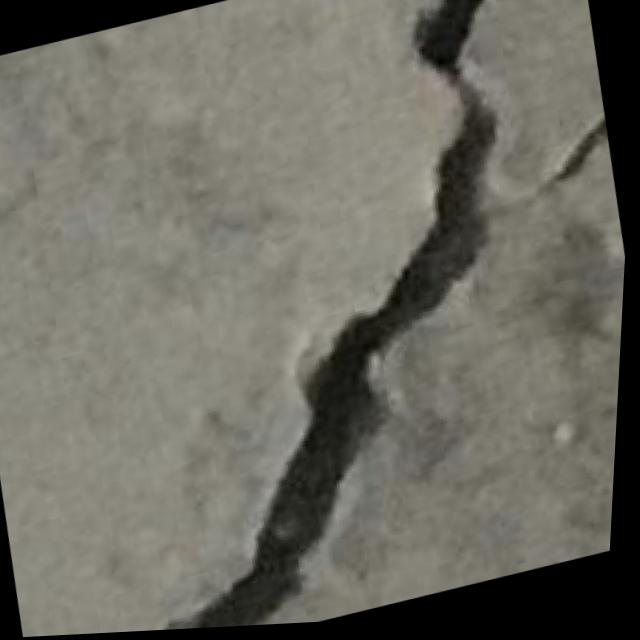Crack: (40, 22, 638, 637)
